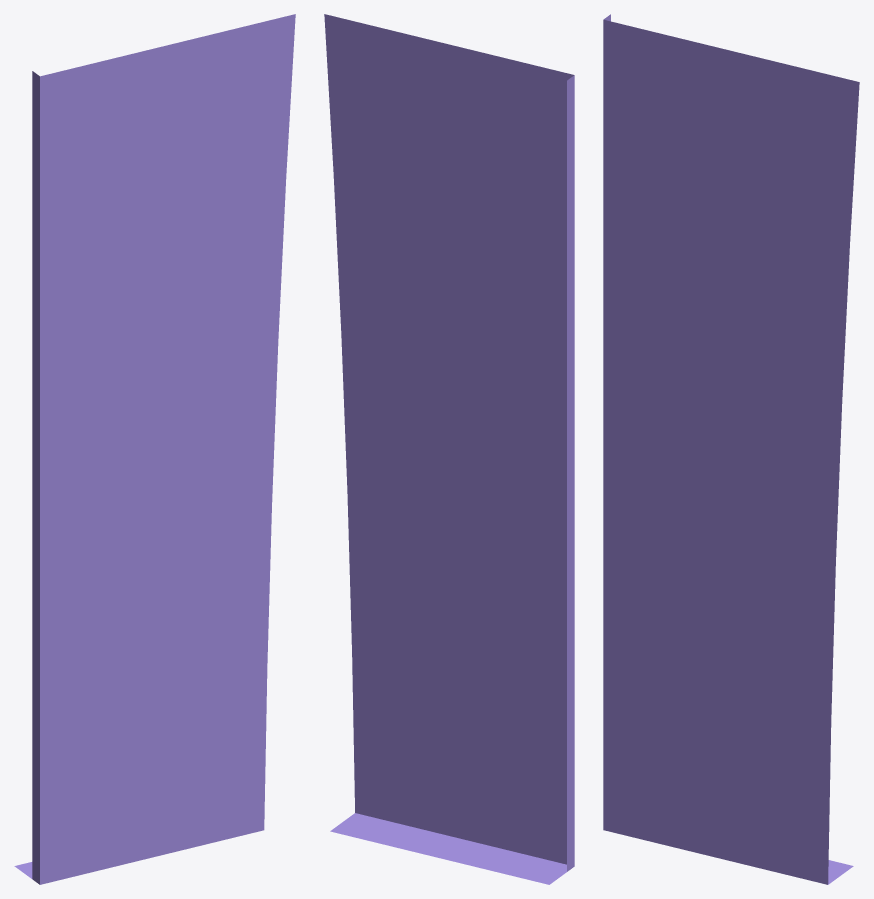
The model's file is puerta2.FBX.
3 views of the same model, side by side, from view 1: azimuth 30°, elevation 25°; view 2: azimuth 150°, elevation 25°; view 3: azimuth 330°, elevation 25° (orthographic). The views are drawn at different scales.
Parts seen in each view (by area): view 1: puerta1_low; view 2: puerta1_low; view 3: puerta1_low.
Boxes of the visible parts, bbox=[...] form: puerta1_low: bbox=[14, 14, 295, 884]; puerta1_low: bbox=[324, 14, 574, 884]; puerta1_low: bbox=[603, 14, 859, 884].
Size of the model in its own units: 22.77 by 68.8 by 3.97.
